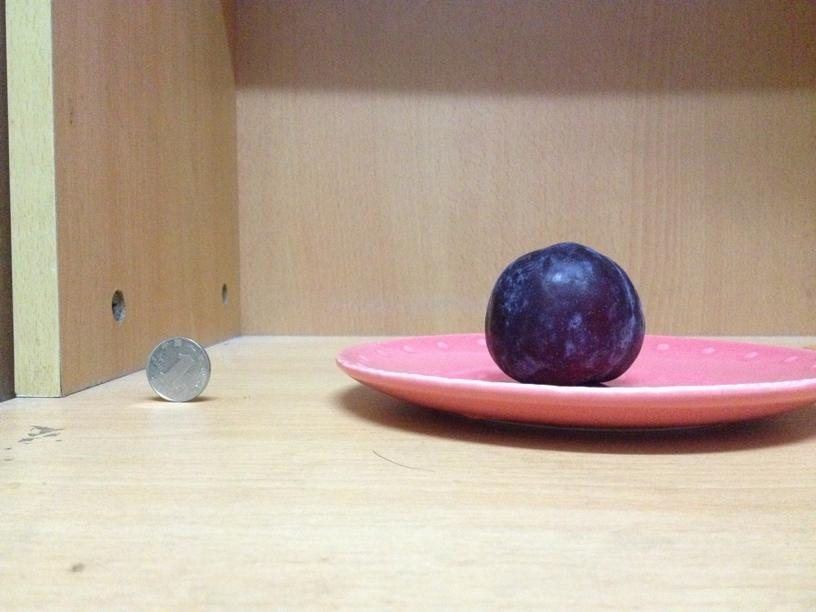coin: (145, 337, 211, 403)
plum: (491, 243, 640, 387)
